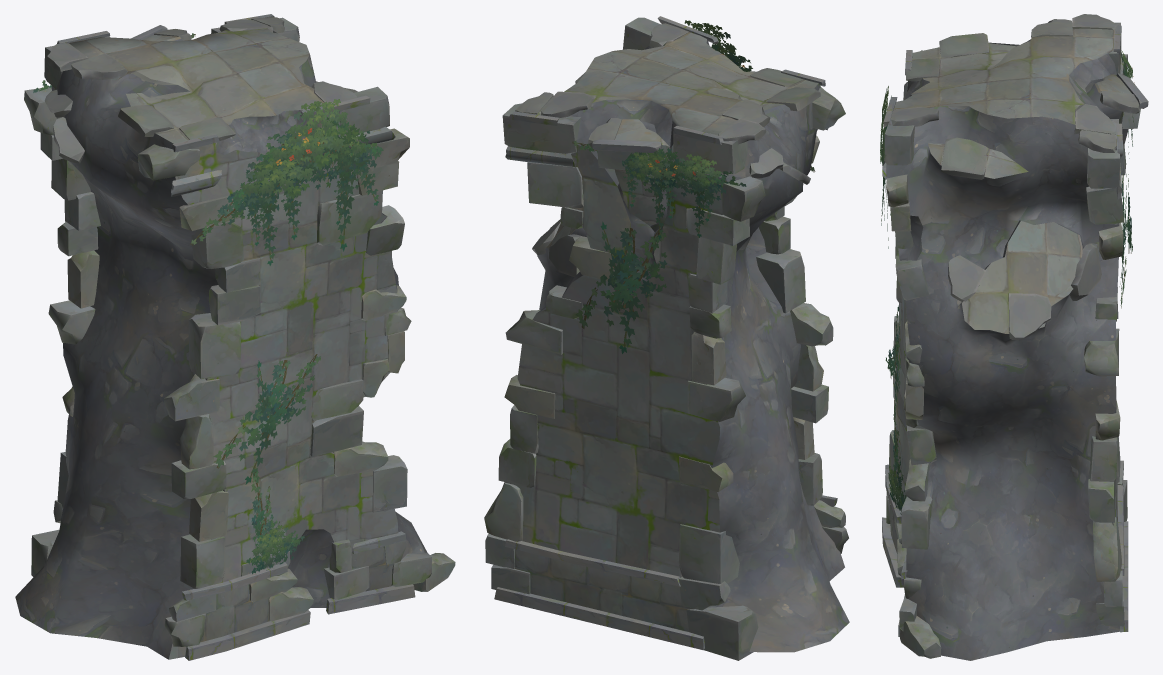
The model's file is Area_MdBuild_SdWall01_03_Group.fbx.
The picture shows the model from 3 angles, left to right: view 1: azimuth 30°, elevation 25°; view 2: azimuth 150°, elevation 25°; view 3: azimuth 270°, elevation 25°; orthographic projection. The views are drawn at different scales.
Parts seen in each view (by area): view 1: Area_MdBuild_SdWall01_03_Lod0, Stages_LYLvy05_Vo (1), Stages_LYLvy09_Vo (1), Stages_LYLvy04_Vo (1); view 2: Area_MdBuild_SdWall01_03_Lod0, Stages_LYLvy03_Vo (1), Stages_LYLvy09_Vo (2), Stages_LYLvy05_Vo (1); view 3: Area_MdBuild_SdWall01_03_Lod0, Stages_LYLvy04_Vo (1), Stages_LYLvy09_Vo (2), Stages_LYLvy09_Vo (1), Stages_LYLvy05_Vo (1).
Part boxes in pixels (<box>): Area_MdBuild_SdWall01_03_Lod0: <box>15,14,455,660</box>; Stages_LYLvy05_Vo (1): <box>190,99,383,265</box>; Stages_LYLvy09_Vo (1): <box>213,354,320,484</box>; Stages_LYLvy04_Vo (1): <box>246,471,304,574</box>; Area_MdBuild_SdWall01_03_Lod0: <box>484,16,849,660</box>; Stages_LYLvy03_Vo (1): <box>572,140,746,239</box>; Stages_LYLvy09_Vo (2): <box>575,221,667,353</box>; Stages_LYLvy05_Vo (1): <box>684,20,815,172</box>; Area_MdBuild_SdWall01_03_Lod0: <box>882,14,1148,660</box>; Stages_LYLvy04_Vo (1): <box>888,406,906,514</box>; Stages_LYLvy09_Vo (2): <box>1119,153,1132,308</box>; Stages_LYLvy09_Vo (1): <box>885,305,900,410</box>; Stages_LYLvy05_Vo (1): <box>880,86,891,248</box>.
Size of the model in its own units: 14.57 by 20.21 by 9.75.
7 materials, 7 textured.
